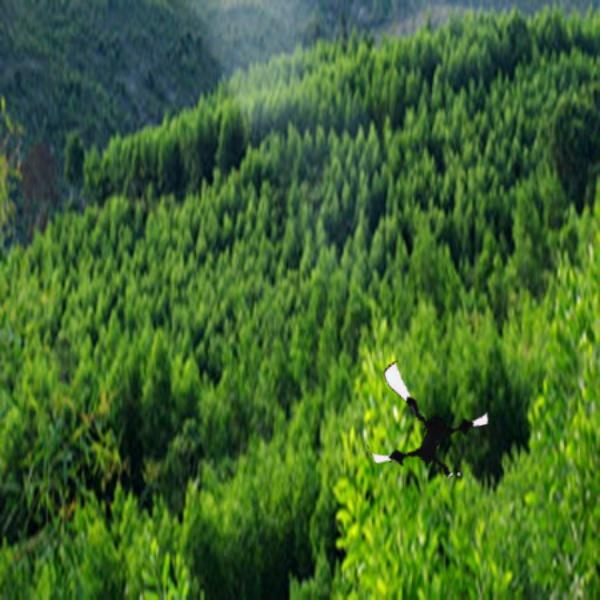drone: (355, 351, 497, 493)
